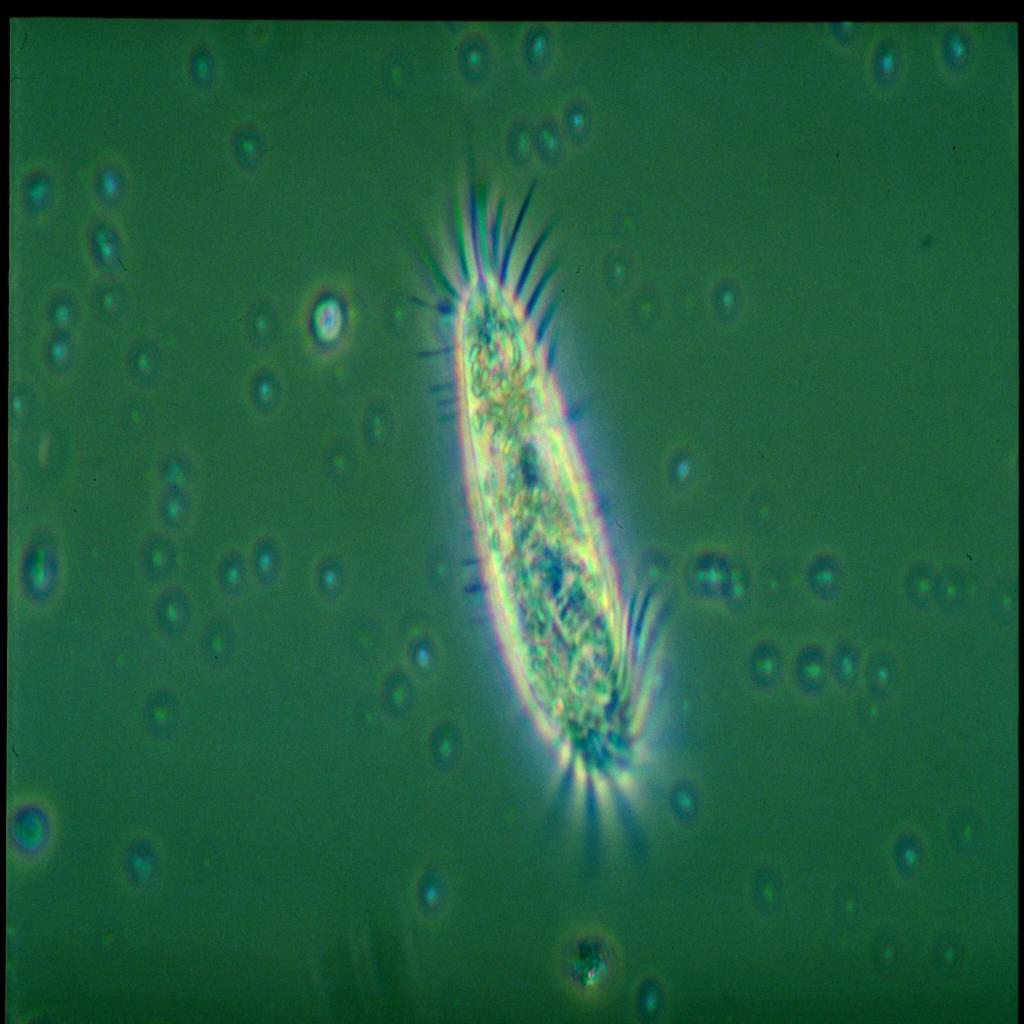Stylonychia: (382, 152, 727, 906)
